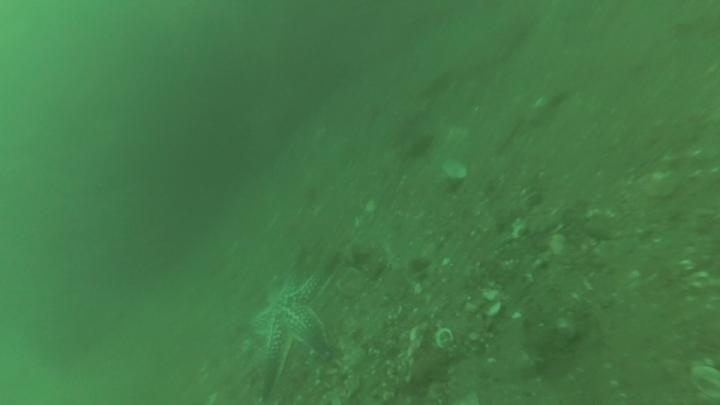starfish: (221, 255, 384, 403)
